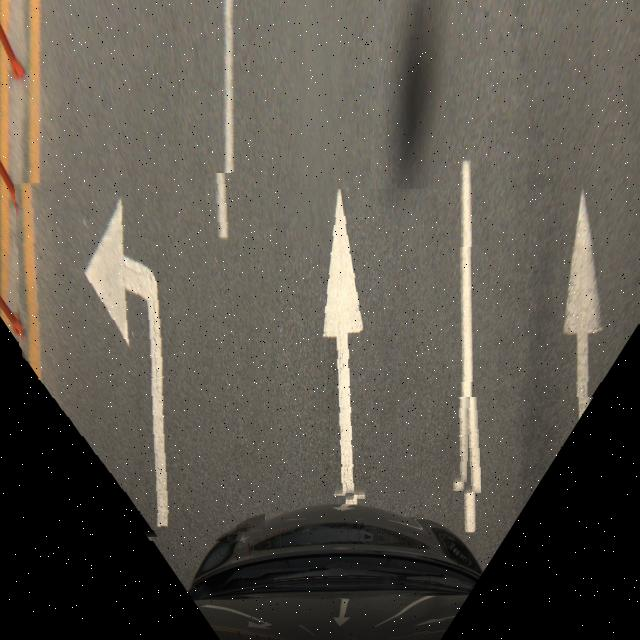forward: (219, 189, 478, 502)
left: (19, 175, 260, 541), (448, 179, 640, 397)
